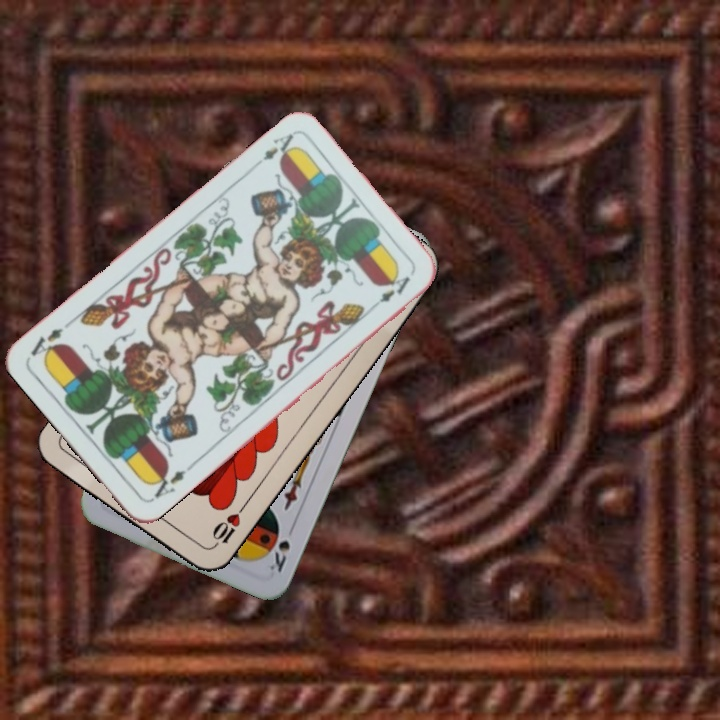EA: (144, 460, 196, 504), (248, 129, 300, 170)
H10: (207, 501, 248, 552)
SK: (261, 520, 298, 575)
